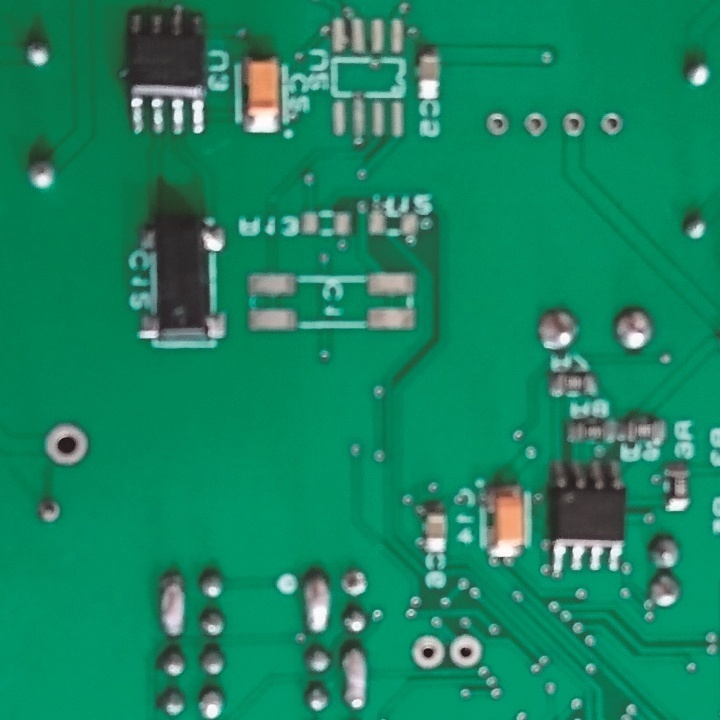F: (44, 421, 89, 468), (410, 634, 446, 672), (447, 633, 481, 672), (33, 497, 64, 526), (559, 109, 586, 140), (340, 569, 368, 598), (597, 108, 623, 139), (484, 109, 510, 139), (521, 111, 549, 138)
P: (337, 643, 370, 715), (301, 565, 331, 636), (157, 570, 187, 640)
